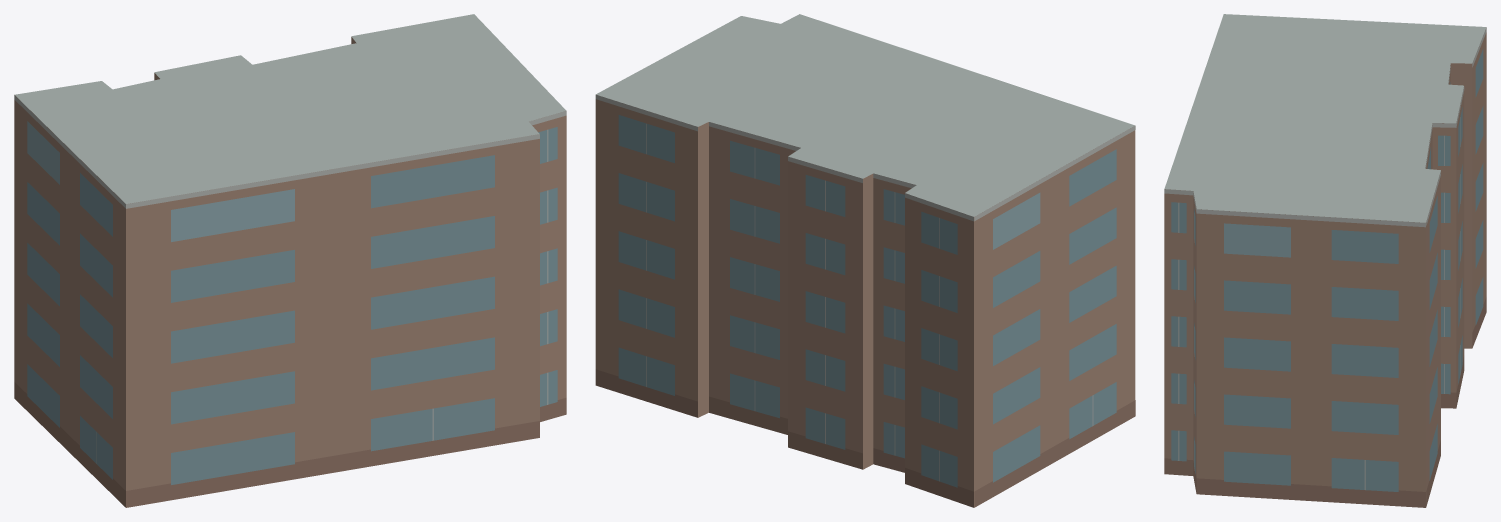
File: survey-upis-32924871.glb
3 views of the same model, side by side, from view 1: azimuth 30°, elevation 25°; view 2: azimuth 150°, elevation 25°; view 3: azimuth 270°, elevation 25° (orthographic). The views are drawn at different scales.
Visible parts, largest first — view 1: survey-upis-32924871.tmp; view 2: survey-upis-32924871.tmp; view 3: survey-upis-32924871.tmp.
Boxes of the visible parts, x1=… form: survey-upis-32924871.tmp: x1=14, y1=14, x2=566, y2=507; survey-upis-32924871.tmp: x1=595, y1=14, x2=1135, y2=507; survey-upis-32924871.tmp: x1=1164, y1=14, x2=1486, y2=507.
Size of the model in its own units: 24.59 by 15.65 by 16.04.
